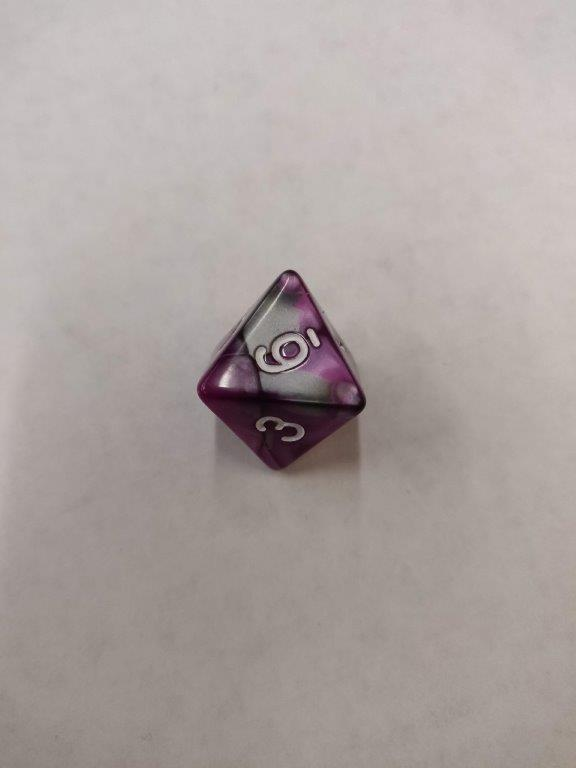d8-6: (192, 270, 369, 477)
